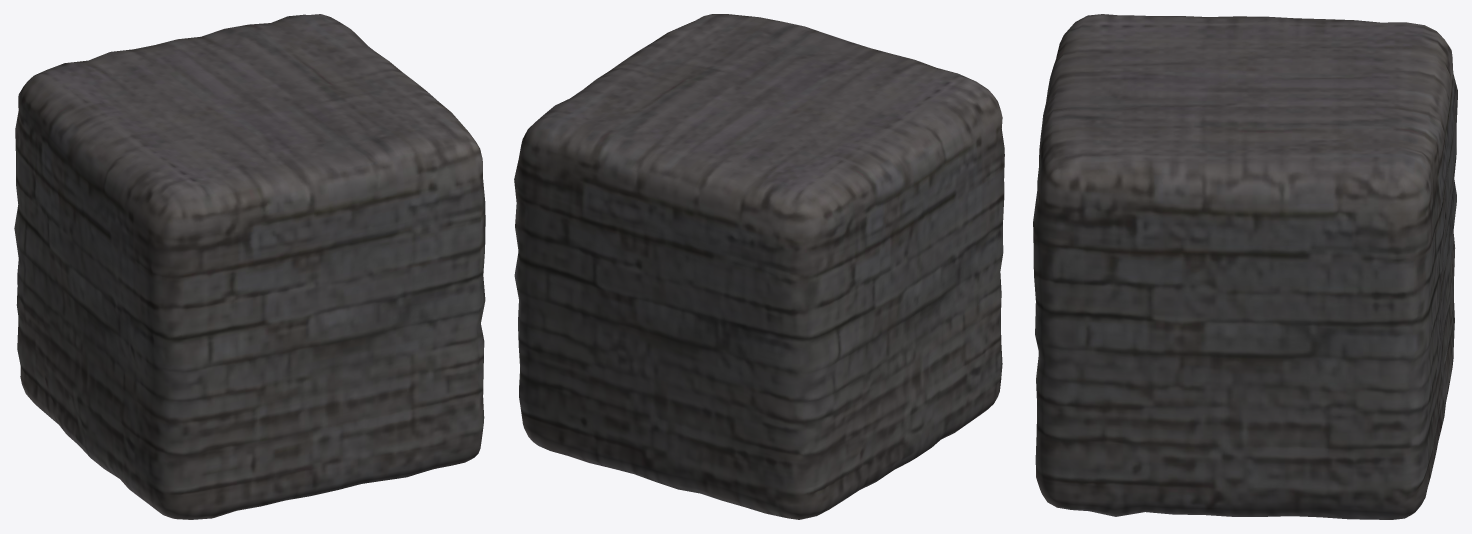
File: Stone_brick__photog.glb
3 views of the same model, side by side, from view 1: azimuth 30°, elevation 25°; view 2: azimuth 150°, elevation 25°; view 3: azimuth 270°, elevation 25° (orthographic). The views are drawn at different scales.
Parts seen in each view (by area): view 1: mesh; view 2: mesh; view 3: mesh.
Part boxes in pixels (box(x1,y1,x2,y2)): mesh: box(14, 14, 485, 519); mesh: box(514, 14, 1004, 519); mesh: box(1033, 14, 1457, 519).
Bounding box in the file's own units: 0.9967 × 0.9328 × 0.9948.
Materials: 1 (1 with a texture image).
